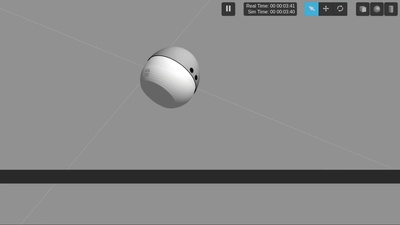mira_robot: (140, 46, 199, 109)
